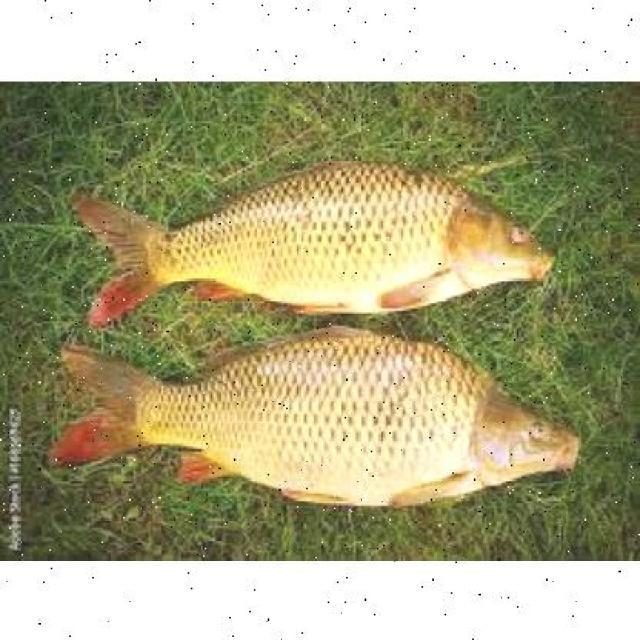ikan-mas: (54, 324, 586, 501), (73, 164, 558, 313)
